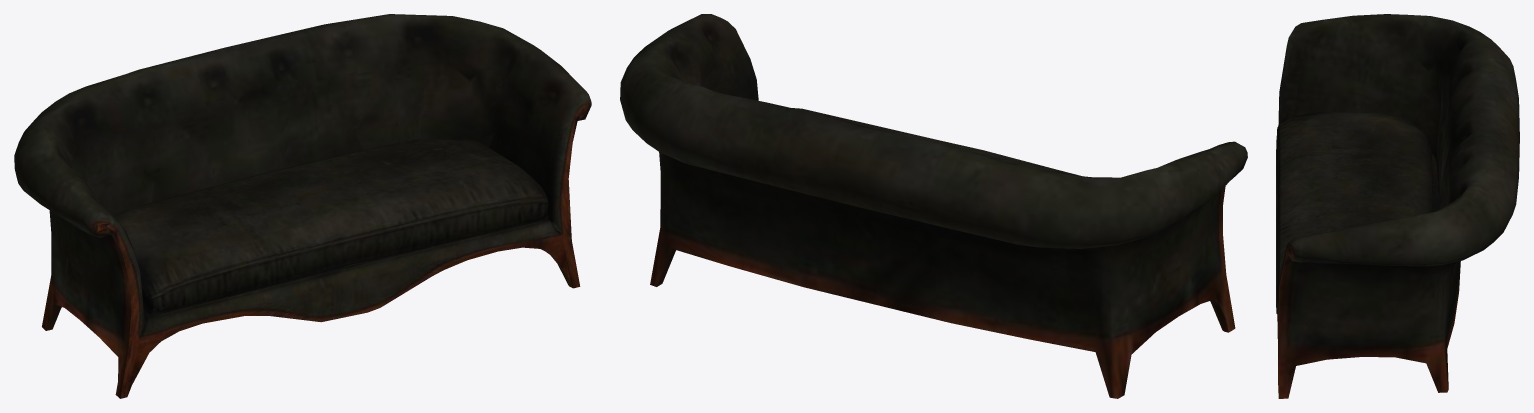
The model's file is sofa_02.glb.
3 renders of one model, left to right at view 1: azimuth 30°, elevation 25°; view 2: azimuth 150°, elevation 25°; view 3: azimuth 270°, elevation 25°, orthographic. The views are drawn at different scales.
Visible parts, largest first — view 1: sofa_02_Base, sofa_02_Seat; view 2: sofa_02_Base, sofa_02_Seat; view 3: sofa_02_Base, sofa_02_Seat.
Part boxes in pixels (x1,y1,x2,y2): sofa_02_Base: (14,14,591,398); sofa_02_Seat: (115,139,549,314); sofa_02_Base: (620,14,1247,398); sofa_02_Seat: (792,108,1081,176); sofa_02_Base: (1277,14,1519,398); sofa_02_Seat: (1276,112,1432,315).
Size of the model in its own units: 1.81 by 0.7095 by 0.8158.
Materials: 1 (1 with a texture image).
